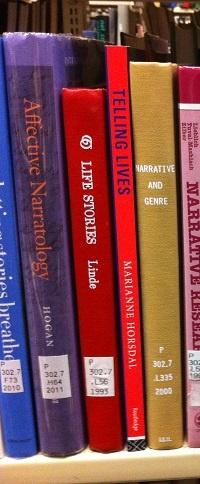call_number: (148, 343, 178, 400), (39, 354, 72, 399), (82, 355, 114, 396), (0, 359, 24, 391), (187, 349, 199, 380)
